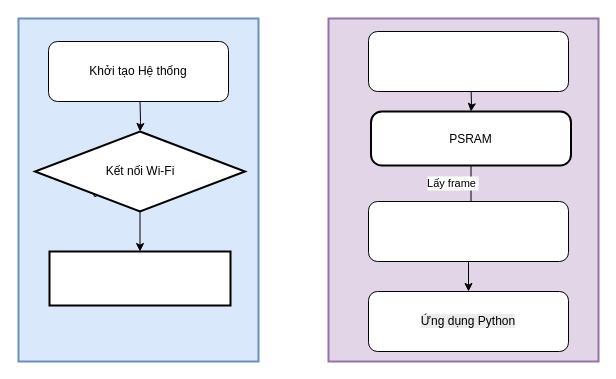
Image size: 616x379. Some labels were removed from this diagram. Each missing label, with the box of its shape:
Khởi tạo Camera: (48, 250, 231, 306)
Khởi động HTTP Server: (368, 30, 568, 92)
Truyền tải MJPEG: (368, 200, 568, 262)
